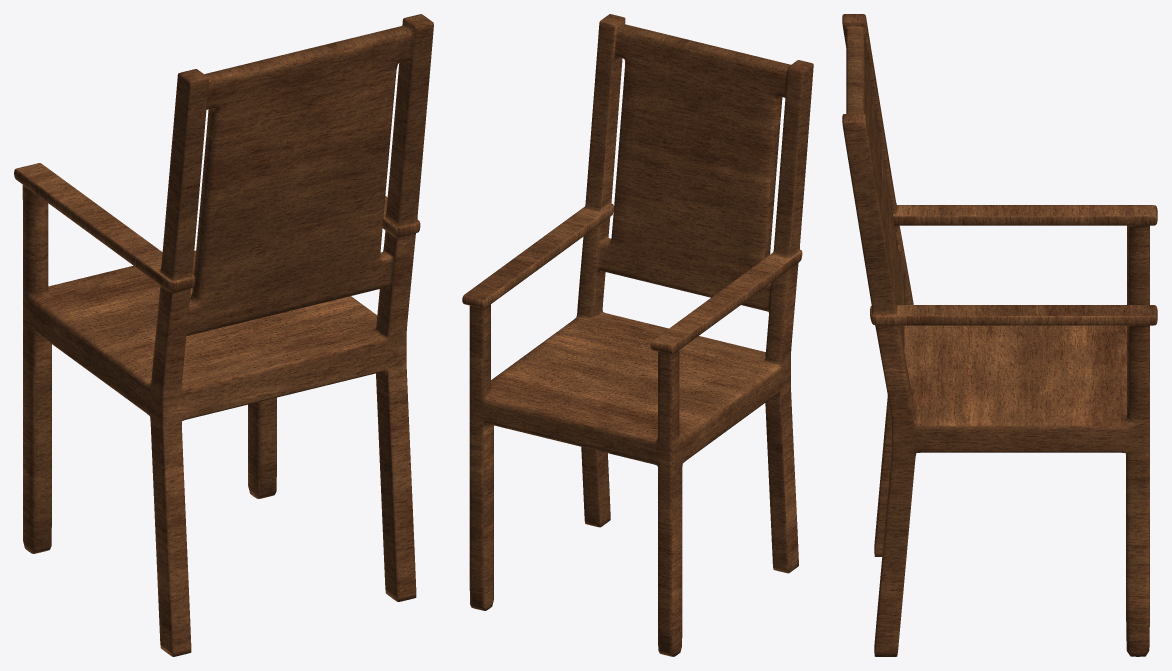
File: Chair19.fbx
The picture shows the model from 3 angles, left to right: view 1: azimuth 30°, elevation 25°; view 2: azimuth 150°, elevation 25°; view 3: azimuth 270°, elevation 25°; orthographic projection. The views are drawn at different scales.
Visible parts, largest first — view 1: Chair19; view 2: Chair19; view 3: Chair19.
Boxes of the visible parts, x1,y1,x2,y2 form: Chair19: [14, 14, 433, 656]; Chair19: [462, 14, 813, 656]; Chair19: [842, 14, 1157, 656].
Bounding box in the file's own units: 40.76 × 91.17 × 48.6.
